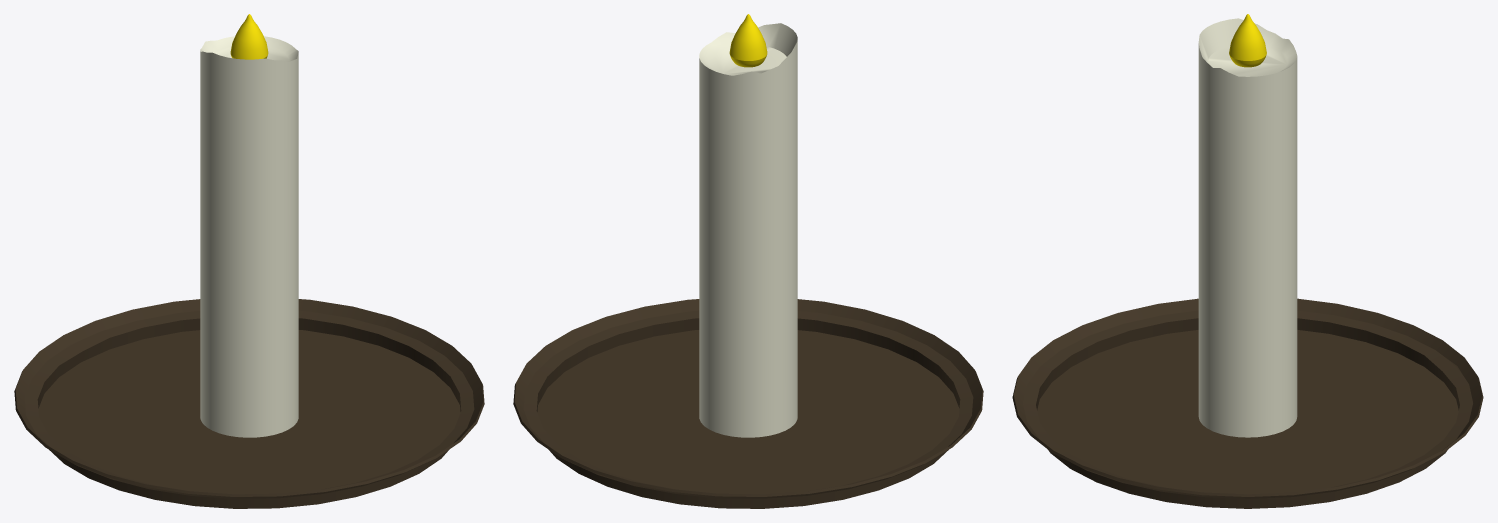
Rendered from candle.fbx.
3 views of the same model, side by side, from view 1: azimuth 30°, elevation 25°; view 2: azimuth 150°, elevation 25°; view 3: azimuth 270°, elevation 25° (orthographic).
Visible parts, largest first — view 1: plate, wax, fire; view 2: plate, wax, fire; view 3: plate, wax, fire.
Boxes of the visible parts, x1=… form: plate: x1=14, y1=299, x2=484, y2=508; wax: x1=200, y1=36, x2=298, y2=437; fire: x1=230, y1=14, x2=268, y2=59; plate: x1=513, y1=299, x2=983, y2=508; wax: x1=699, y1=23, x2=797, y2=437; fire: x1=729, y1=14, x2=767, y2=67; plate: x1=1012, y1=298, x2=1483, y2=508; wax: x1=1198, y1=18, x2=1297, y2=437; fire: x1=1229, y1=14, x2=1266, y2=67.
Bounding box in the file's own units: 581 × 550 × 581.
